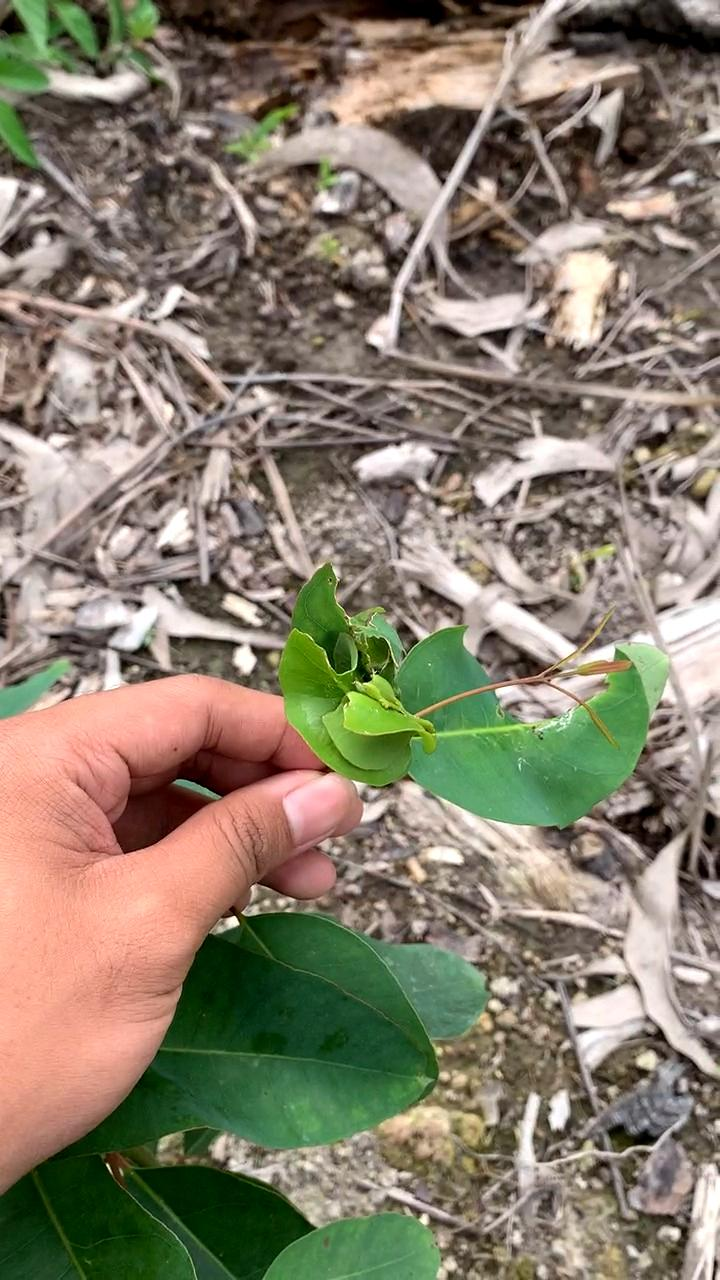Leaf Roller - Leaf: (265, 550, 445, 816)
